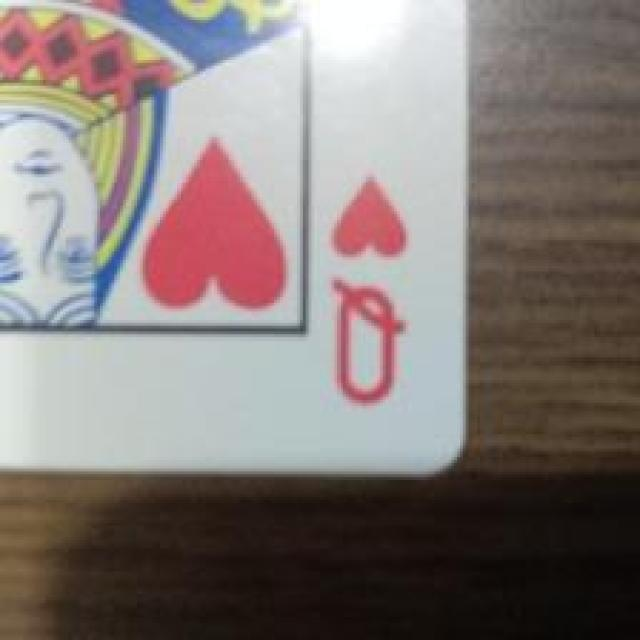Queen of hearts: (0, 0, 466, 477)
